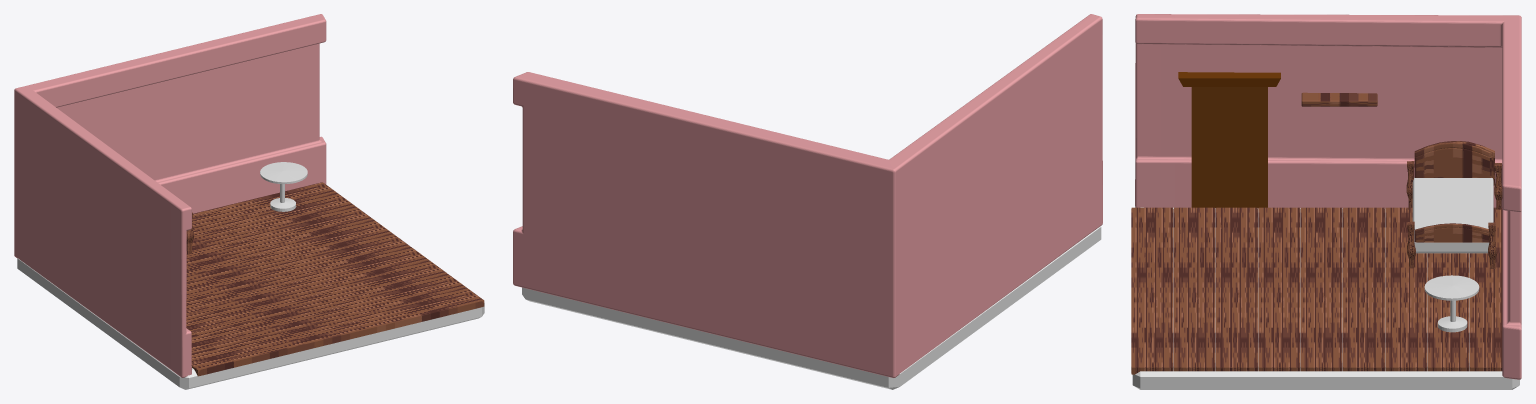
Rendered from room.fbx.
3 renders of one model, left to right at view 1: azimuth 30°, elevation 25°; view 2: azimuth 150°, elevation 25°; view 3: azimuth 270°, elevation 25°, orthographic. The views are drawn at different scales.
Parts seen in each view (by area): view 1: Cube, Plane.001, Plane, Circle; view 2: Cube, Plane; view 3: Cube, Plane.001, Cube.005, Plane, Plane.004, Cube.003, Circle, Cube.006, Cube.002, Cube.001, Plane.003, Plane.002 (+1 smaller).
Boxes of the visible parts, x1,y1,x2,y2 form: Cube: (14, 14, 326, 377); Plane.001: (186, 182, 484, 376); Plane: (17, 258, 484, 389); Circle: (260, 162, 307, 211); Cube: (513, 14, 1102, 377); Plane: (522, 226, 1101, 389); Cube: (1135, 14, 1521, 379); Plane.001: (1131, 207, 1502, 374); Cube.005: (1191, 87, 1267, 208); Plane: (1132, 207, 1519, 389); Plane.004: (1412, 177, 1493, 253); Cube.003: (1414, 141, 1491, 177); Circle: (1424, 275, 1479, 332); Cube.006: (1178, 72, 1280, 86); Cube.002: (1414, 223, 1489, 242); Cube.001: (1301, 92, 1377, 106); Plane.003: (1488, 222, 1497, 268); Plane.002: (1407, 221, 1415, 268).
Size of the model in its own units: 314 by 178 by 300.
